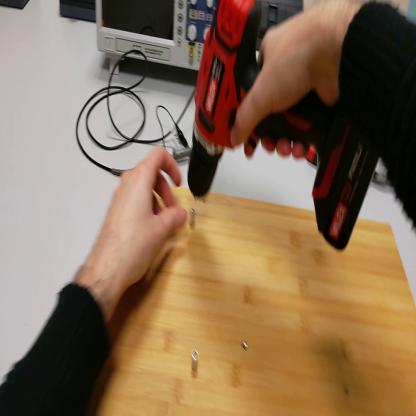electric screwdriver: (190, 2, 379, 257)
hand: (231, 6, 350, 162), (98, 147, 187, 290)
oscilloscope: (97, 2, 218, 78)
socket: (61, 1, 97, 25), (2, 1, 31, 9)
working area: (83, 189, 416, 415)
